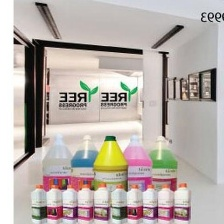cleaning_solution: (38, 131, 81, 202), (114, 131, 155, 204), (91, 134, 130, 205), (141, 135, 179, 203), (68, 132, 104, 203), (172, 181, 194, 224), (28, 180, 49, 224), (75, 182, 97, 224), (155, 182, 177, 224), (124, 182, 146, 223), (92, 181, 113, 222), (141, 181, 160, 224), (109, 182, 128, 223), (45, 182, 63, 223), (61, 183, 79, 223)
